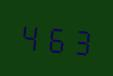four: (18, 16, 42, 54)
six: (44, 18, 68, 56)
three: (69, 21, 93, 59)
